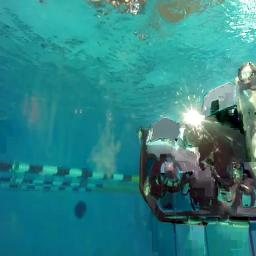front: (136, 63, 256, 228)
